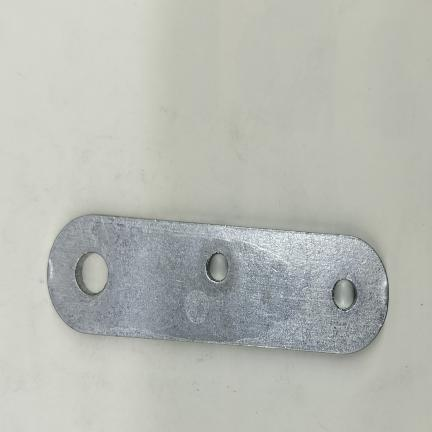serration: (72, 248, 96, 301)
